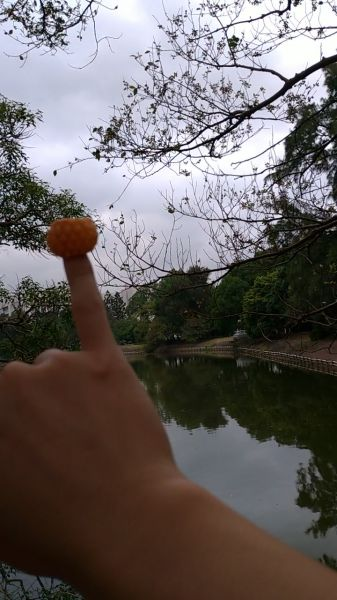eggs: (47, 218, 98, 258)
